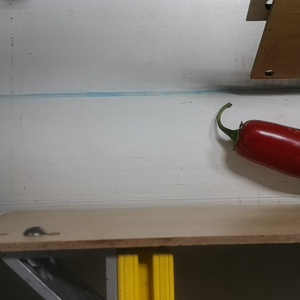Cut Point: (225, 116, 261, 159)
